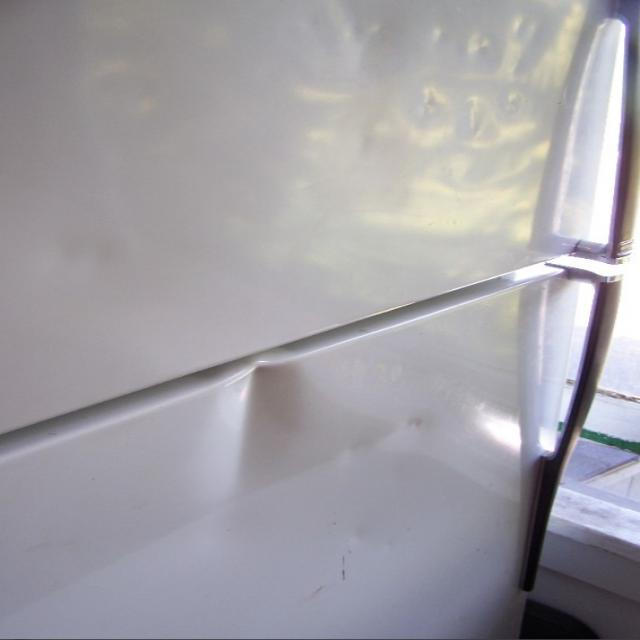dents: (179, 354, 361, 492)
